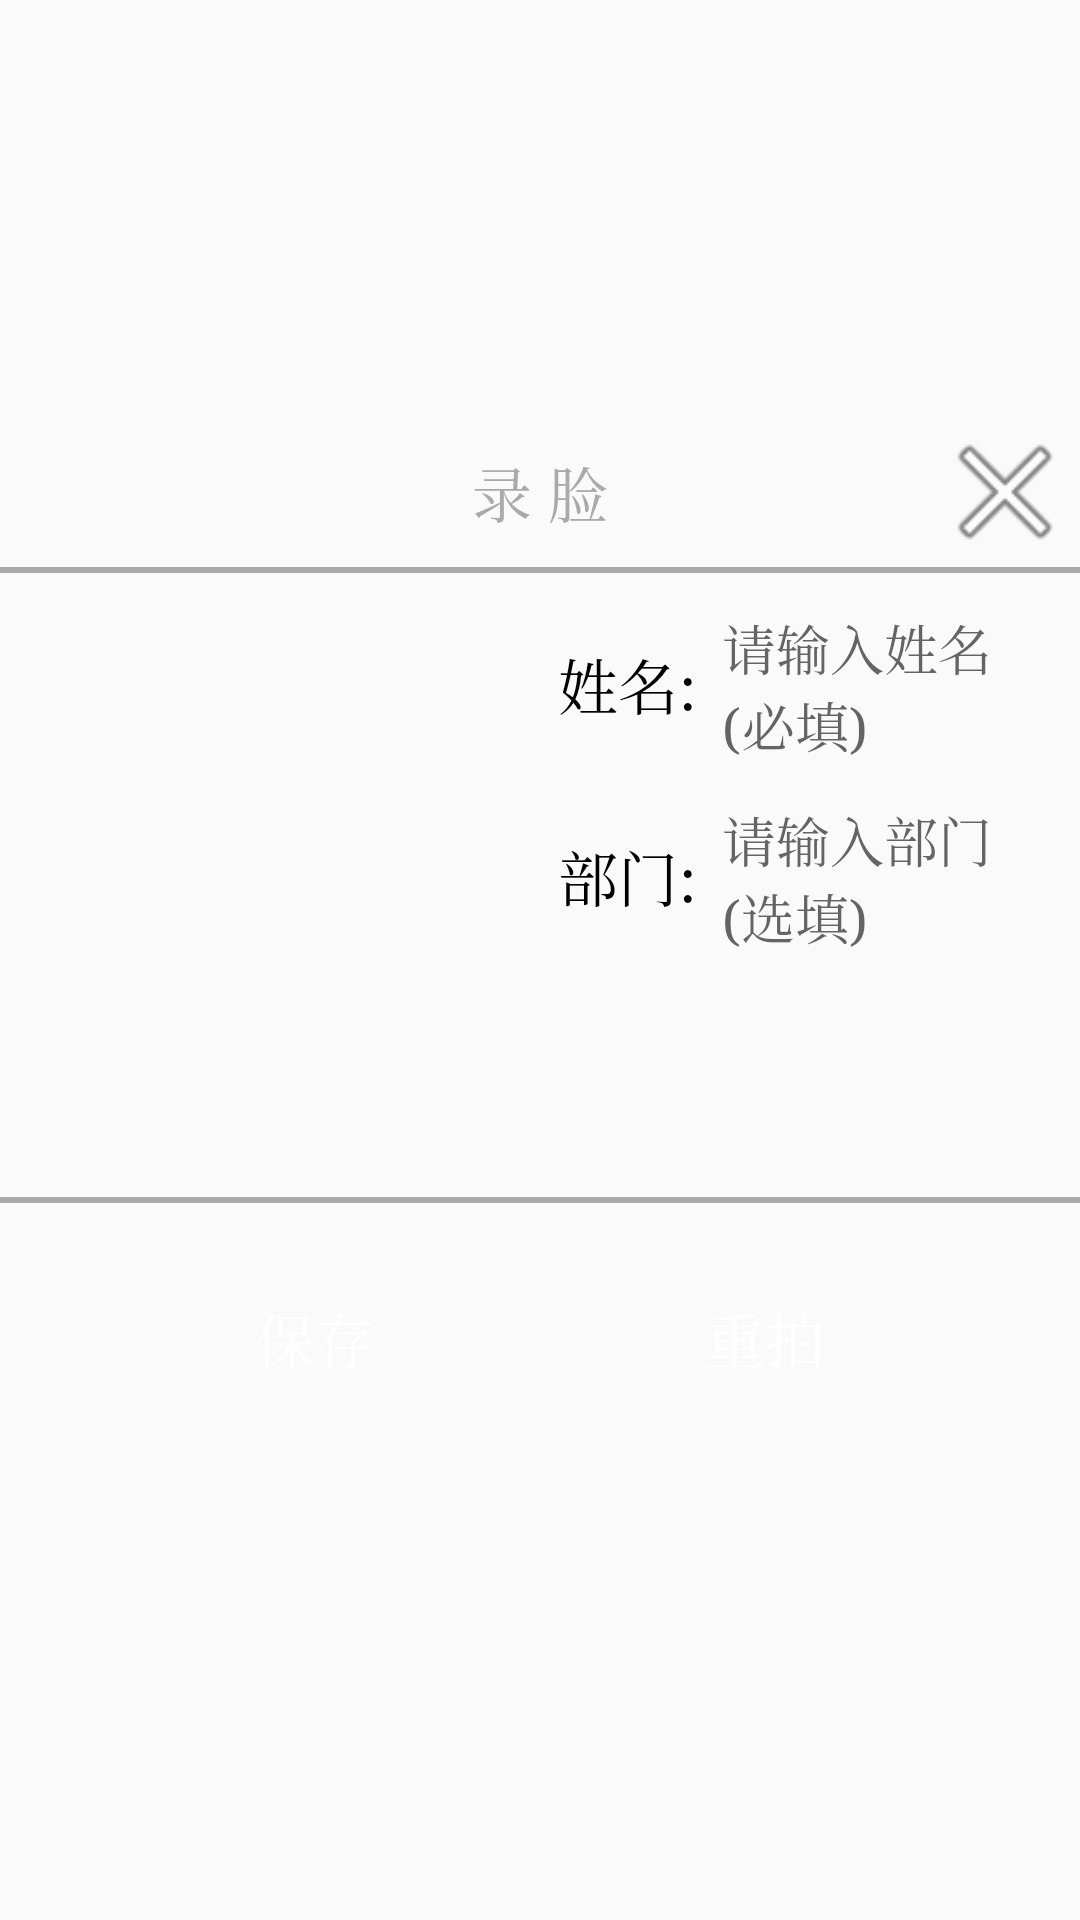

Named icons in this screenshot (1080px x 1920px) and their centers, (x=x, y=y):
close clear cancel: (x=1005, y=492)
